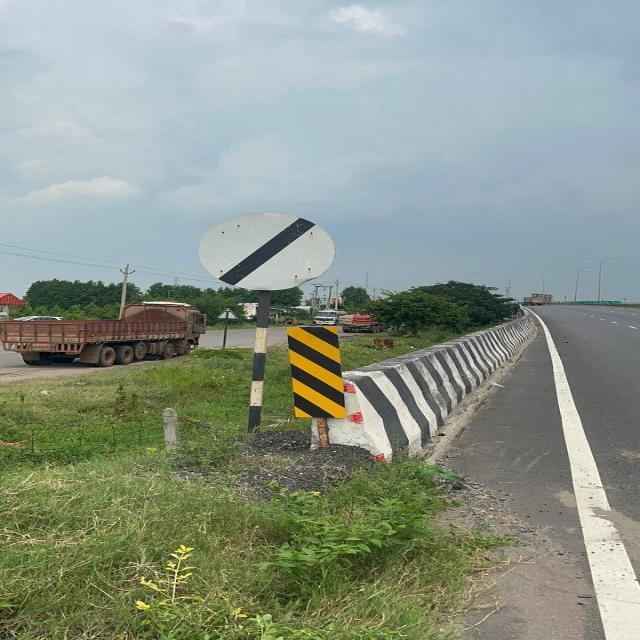restriction ends: (203, 206, 339, 296)
